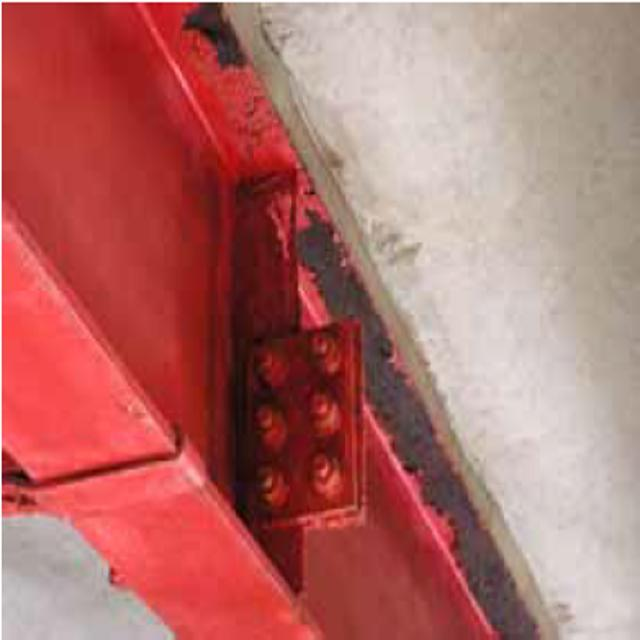corrosion: (293, 227, 563, 640)
